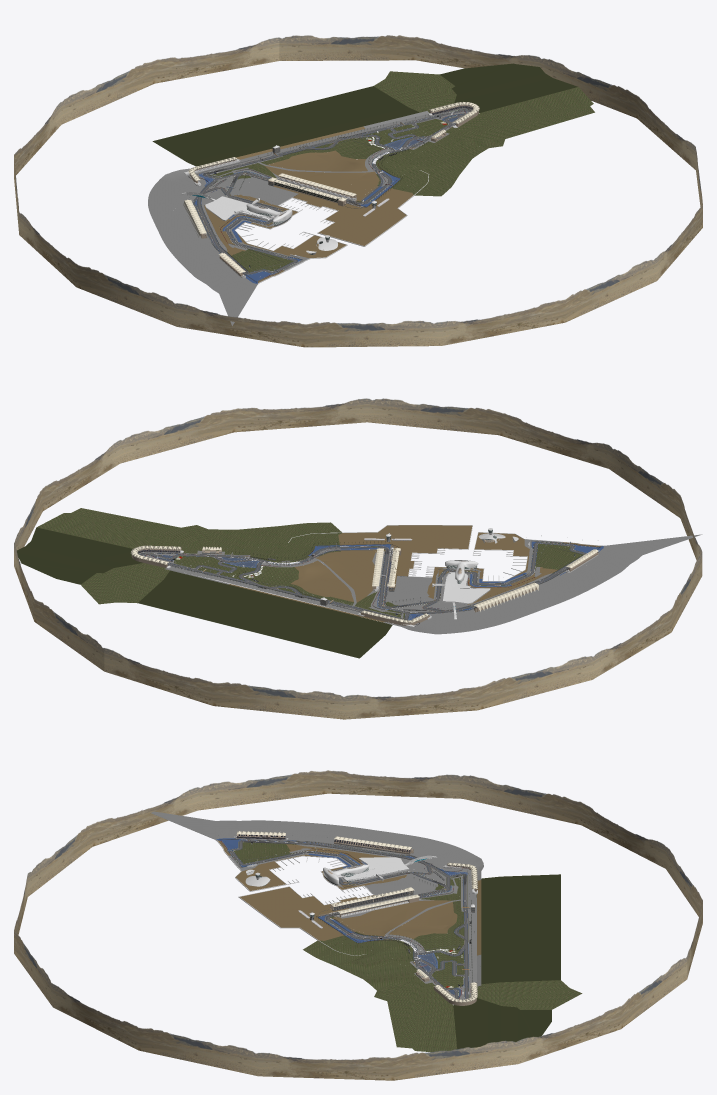
Rendered from SUP_yas_marina_circuit_abu_dhabi_2021_layout.glb.
3 renders of one model, top to bottom at view 1: azimuth 30°, elevation 25°; view 2: azimuth 150°, elevation 25°; view 3: azimuth 270°, elevation 25°, orthographic.
Parts seen in each view (by area): view 1: SUP_yas_marina_circuit_abu_dhabi_2021_layout; view 2: SUP_yas_marina_circuit_abu_dhabi_2021_layout; view 3: SUP_yas_marina_circuit_abu_dhabi_2021_layout.
Boxes of the visible parts, x1,y1,x2,y2 form: SUP_yas_marina_circuit_abu_dhabi_2021_layout: (14, 35, 702, 347); SUP_yas_marina_circuit_abu_dhabi_2021_layout: (14, 398, 702, 719); SUP_yas_marina_circuit_abu_dhabi_2021_layout: (14, 770, 702, 1080).
Bounding box in the file's own units: 1402 × 104 × 1422.
Materials: 99 (94 with a texture image).
